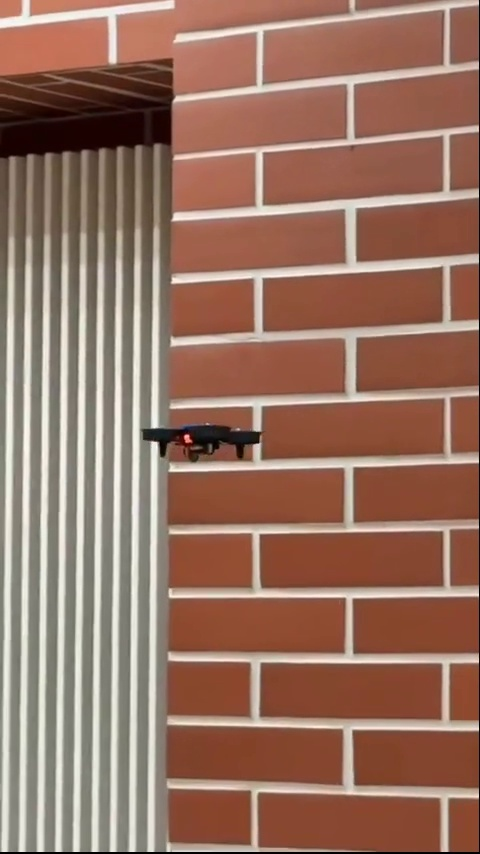drone: (141, 416, 270, 467)
